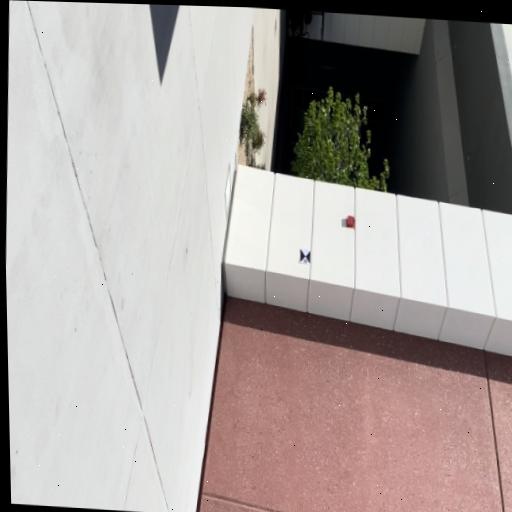target9: (299, 248, 310, 264)
